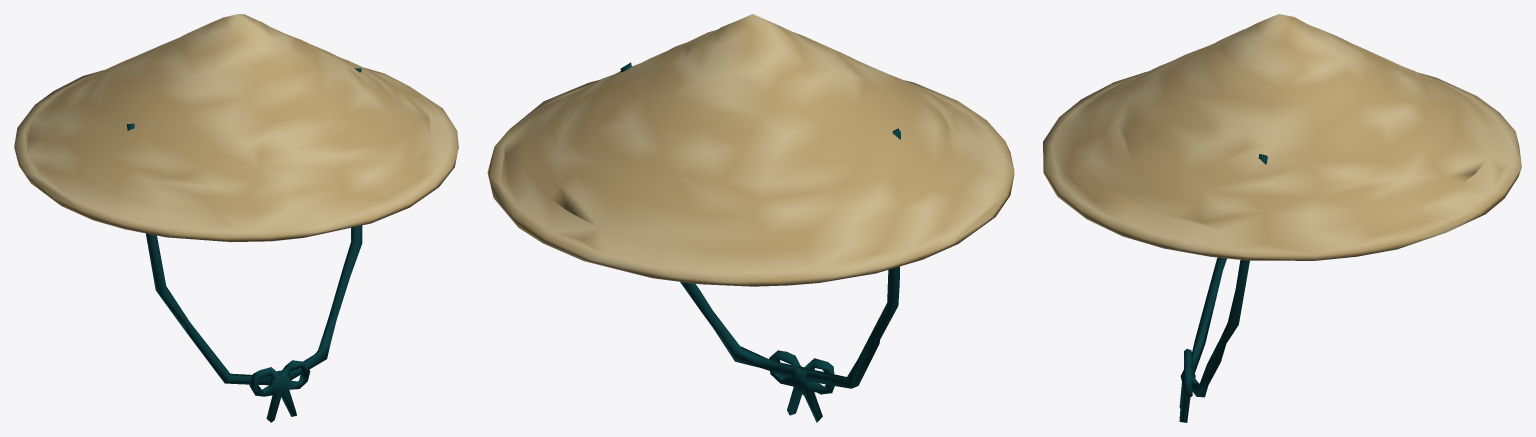
File: nonla.glb
The picture shows the model from 3 angles, left to right: view 1: azimuth 30°, elevation 25°; view 2: azimuth 150°, elevation 25°; view 3: azimuth 270°, elevation 25°; orthographic projection. The views are drawn at different scales.
Visible parts, largest first — view 1: Non_La, Quai_Lua, No_Quai; view 2: Non_La, Quai_Lua, No_Quai; view 3: Non_La, Quai_Lua, No_Quai.
Boxes of the visible parts, x1,y1,x2,y2 form: Non_La: (14, 14, 458, 242); Quai_Lua: (126, 68, 362, 385); No_Quai: (249, 360, 310, 422); Non_La: (487, 14, 1014, 286); Quai_Lua: (620, 62, 900, 388); No_Quai: (769, 350, 834, 422); Non_La: (1043, 14, 1521, 260); Quai_Lua: (1191, 154, 1267, 397); No_Quai: (1179, 349, 1195, 422).
Bounding box in the file's own units: 0.3998 × 0.3735 × 0.4003.
